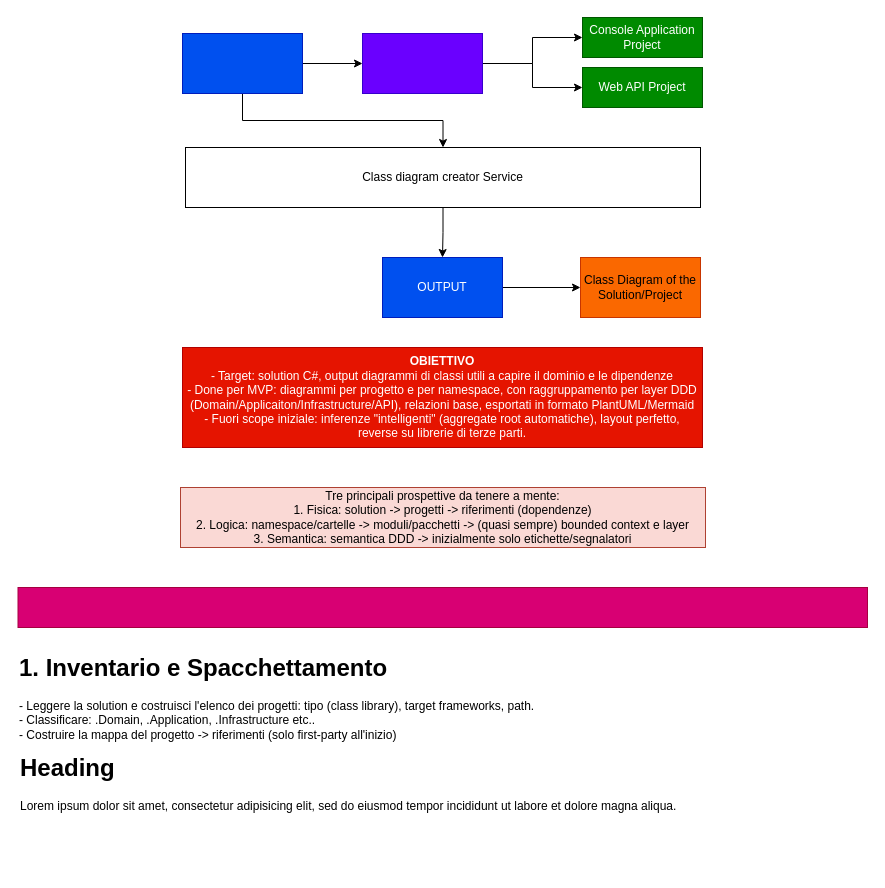
Image size: 885x888. Some labels were removed from this diagram. Here are the shapes that lost their labels. From the top down, the centre of each, then its label:
At [242,63]: "INPUT".
At [422,63]: "(Visual Studio Solution)".
At [442,607]: "PERCORSO MVP IN 6 STEP".
